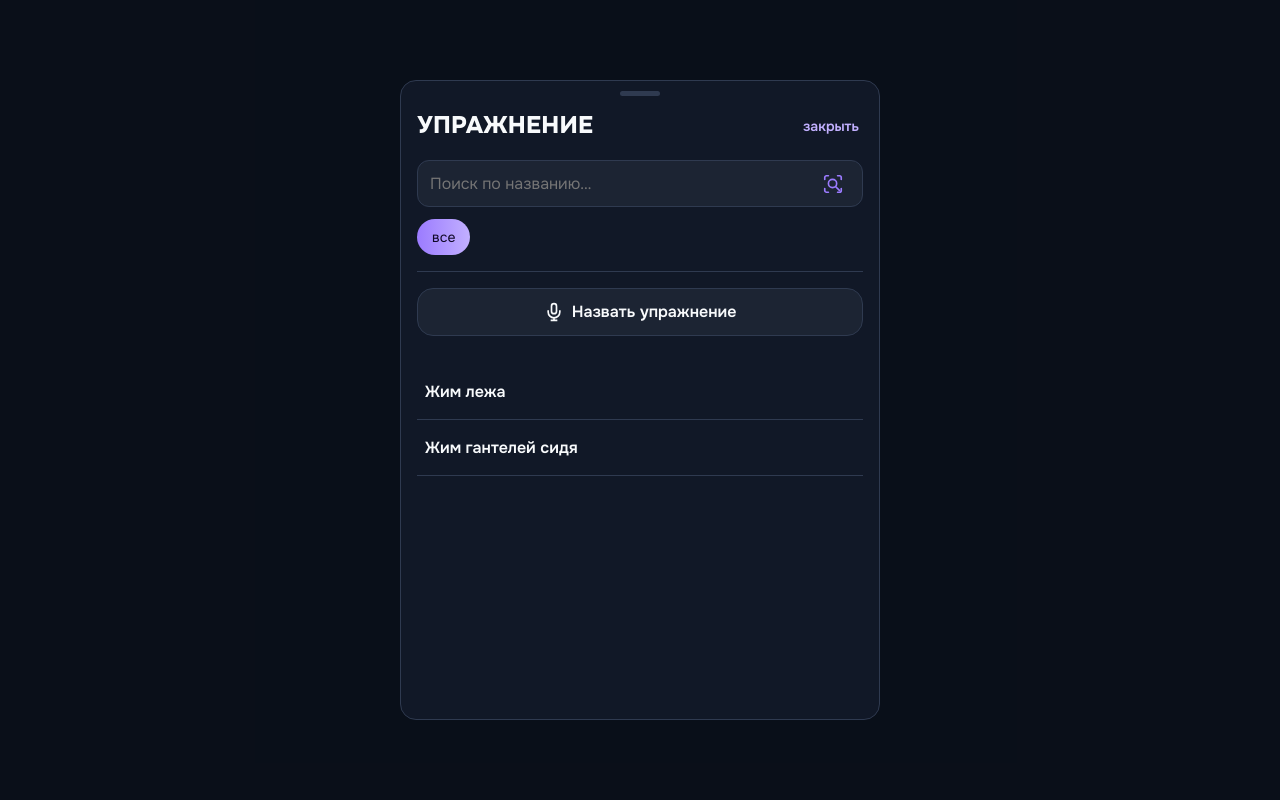
voice in ExercisePicker › handles start failure
This screenshot has width=1280, height=800.
Step 1. Click the button "Назвать упражнение" → (640, 312), box [417,288,863,336]
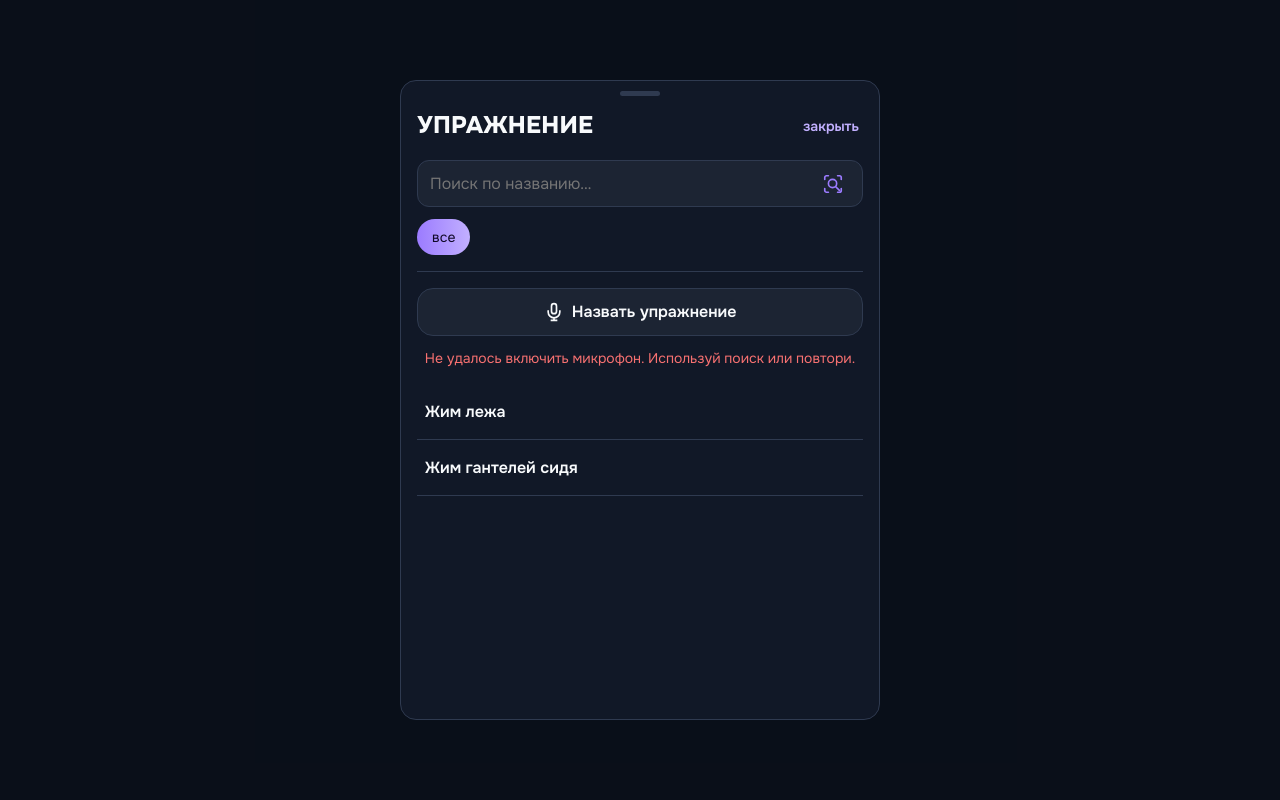
Check: the message shows "Не удалось включить", box [425,349,855,367]
